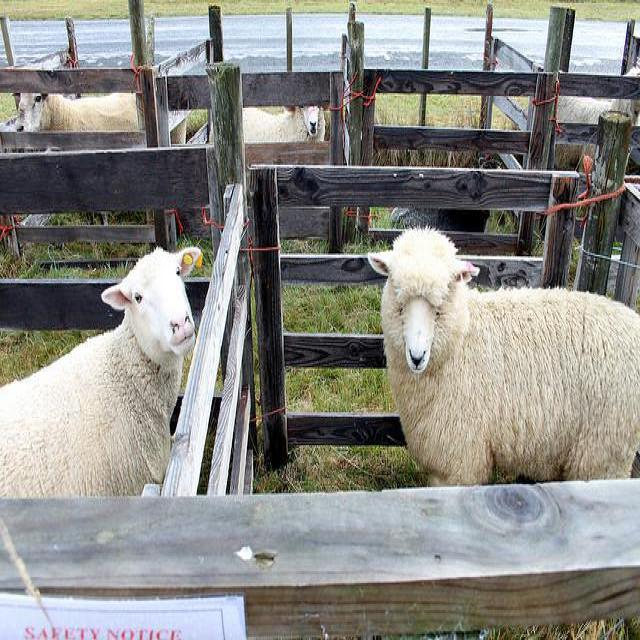Sheep: (365, 226, 639, 489), (1, 248, 204, 498), (13, 91, 139, 225), (388, 158, 506, 232), (556, 54, 639, 124)
